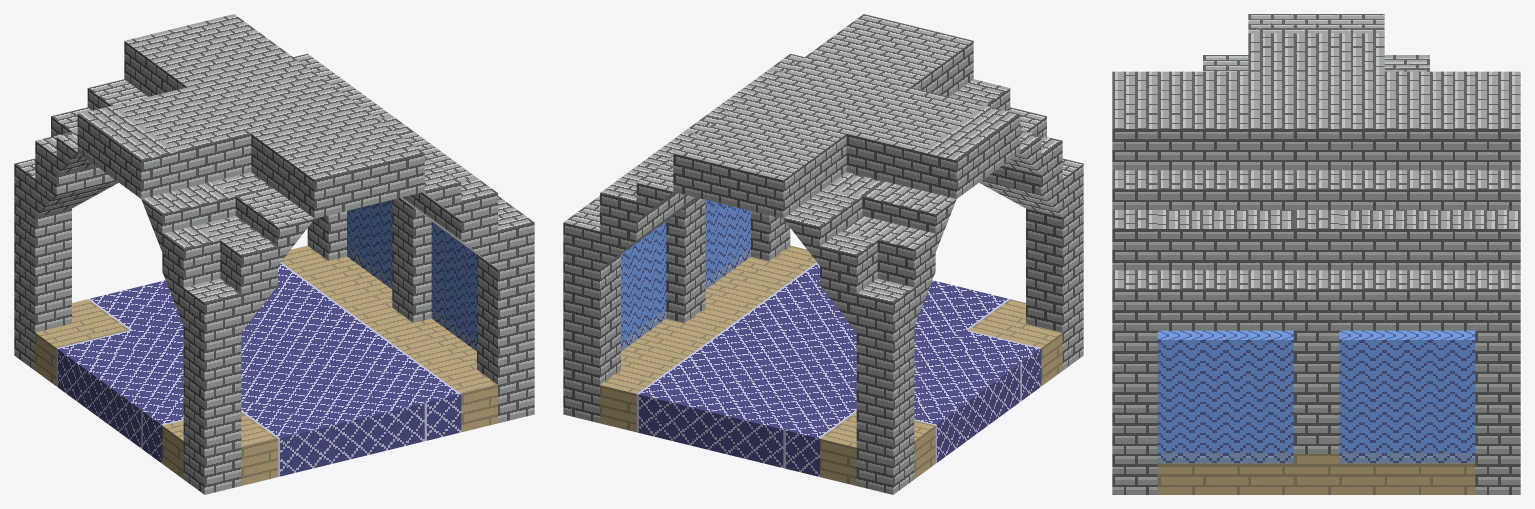
File: corridor T S.fbx
3 renders of one model, left to right at view 1: azimuth 30°, elevation 25°; view 2: azimuth 150°, elevation 25°; view 3: azimuth 270°, elevation 25°, orthographic. The views are drawn at different scales.
Parts seen in each view (by area): view 1: corridor T S; view 2: corridor T S; view 3: corridor T S.
Part boxes in pixels (x1,y1,x2,y2): corridor T S: (14,14,534,494); corridor T S: (563,14,1083,494); corridor T S: (1112,14,1520,494).
Bounding box in the file's own units: 9.5 × 7.5 × 9.
1 material, 1 textured.
